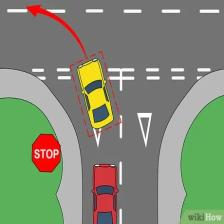Stop-sign: (29, 130, 65, 176)
